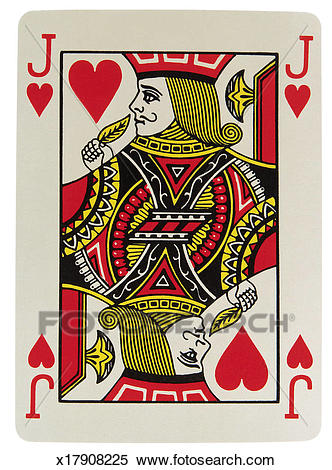jack of hearts: (18, 10, 319, 443)
